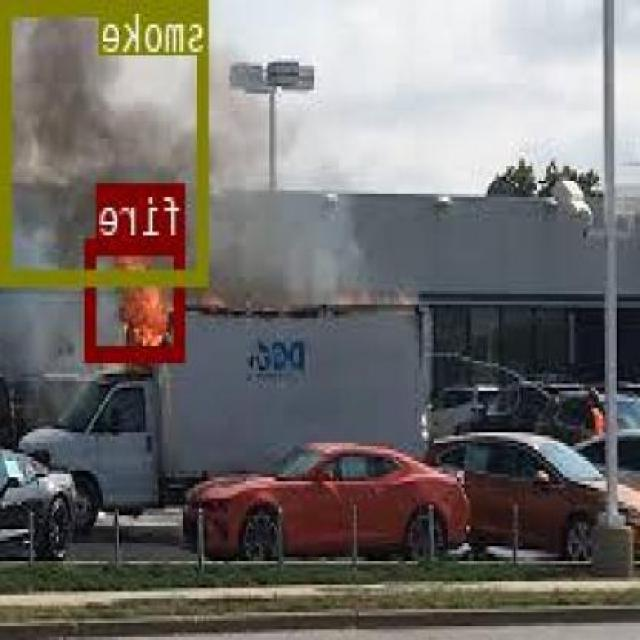Fire: (88, 236, 186, 359)
Smoke: (3, 0, 212, 283), (220, 158, 366, 304)
